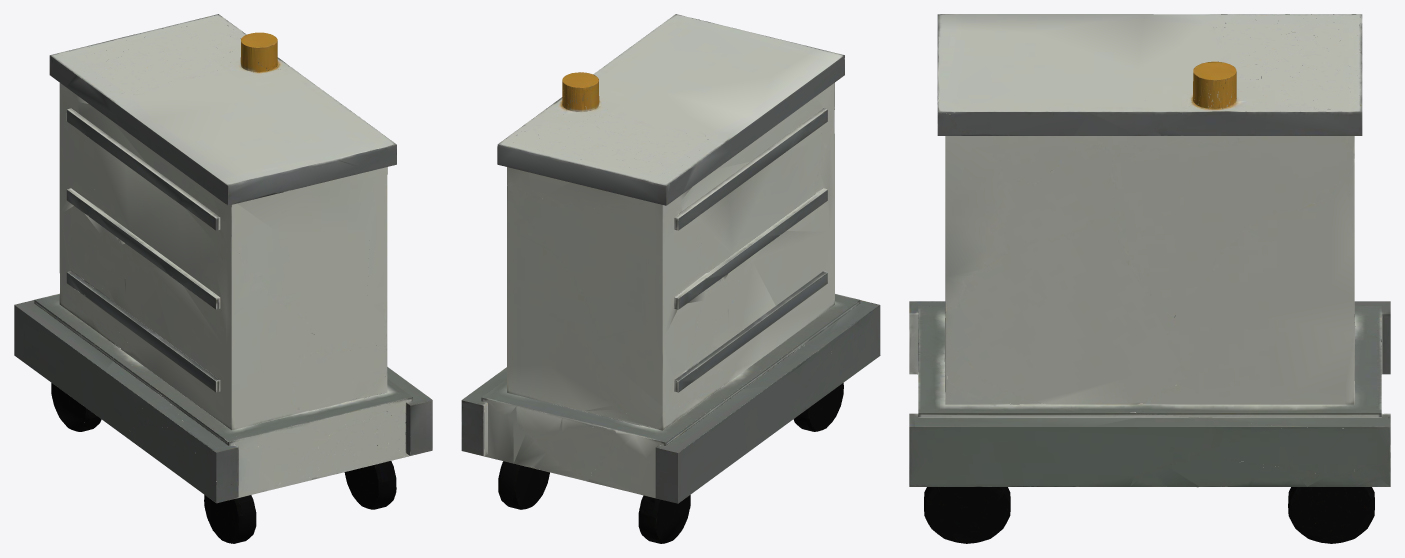
Rendered from ch05_automatic_archive_cart.glb.
3 views of the same model, side by side, from view 1: azimuth 30°, elevation 25°; view 2: azimuth 150°, elevation 25°; view 3: azimuth 270°, elevation 25° (orthographic). The views are drawn at different scales.
Visible parts, largest first — view 1: material; view 2: material; view 3: material.
Part boxes in pixels (x1,y1,x2,y2): material: (14, 14, 432, 543); material: (461, 14, 880, 543); material: (909, 14, 1390, 543).
Bounding box in the file's own units: 0.5237 × 0.9041 × 0.8469.
Materials: 1 (1 with a texture image).
